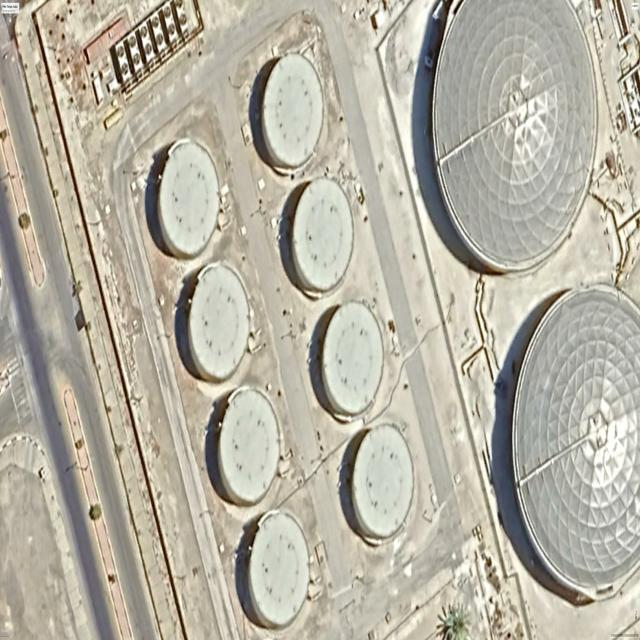Oil Rafinery: (432, 0, 597, 271), (511, 285, 640, 599), (289, 177, 354, 298), (216, 385, 280, 506), (320, 301, 384, 421), (246, 510, 310, 629), (157, 138, 220, 258), (351, 424, 414, 544), (187, 262, 250, 381), (262, 53, 324, 168)
